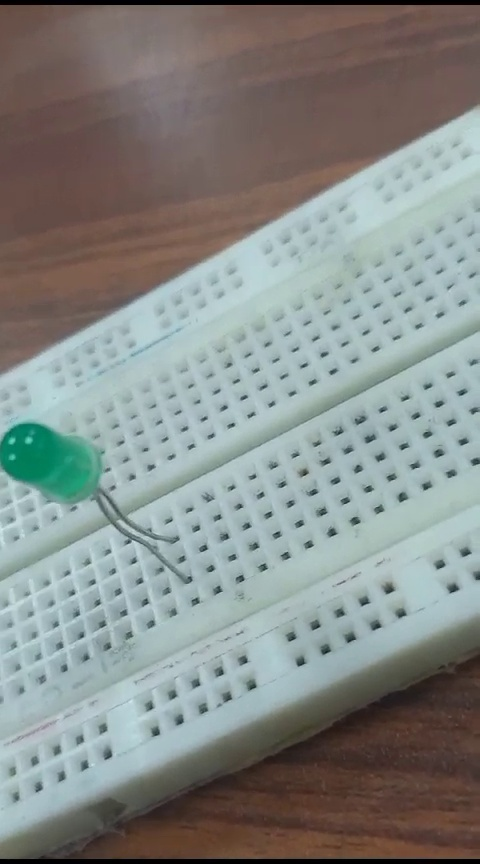LED: (3, 415, 194, 607)
